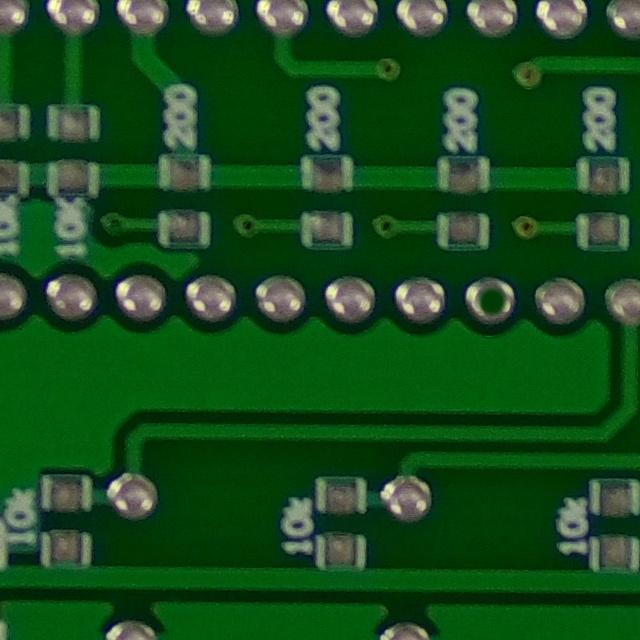missing_hole: (456, 270, 530, 330)
